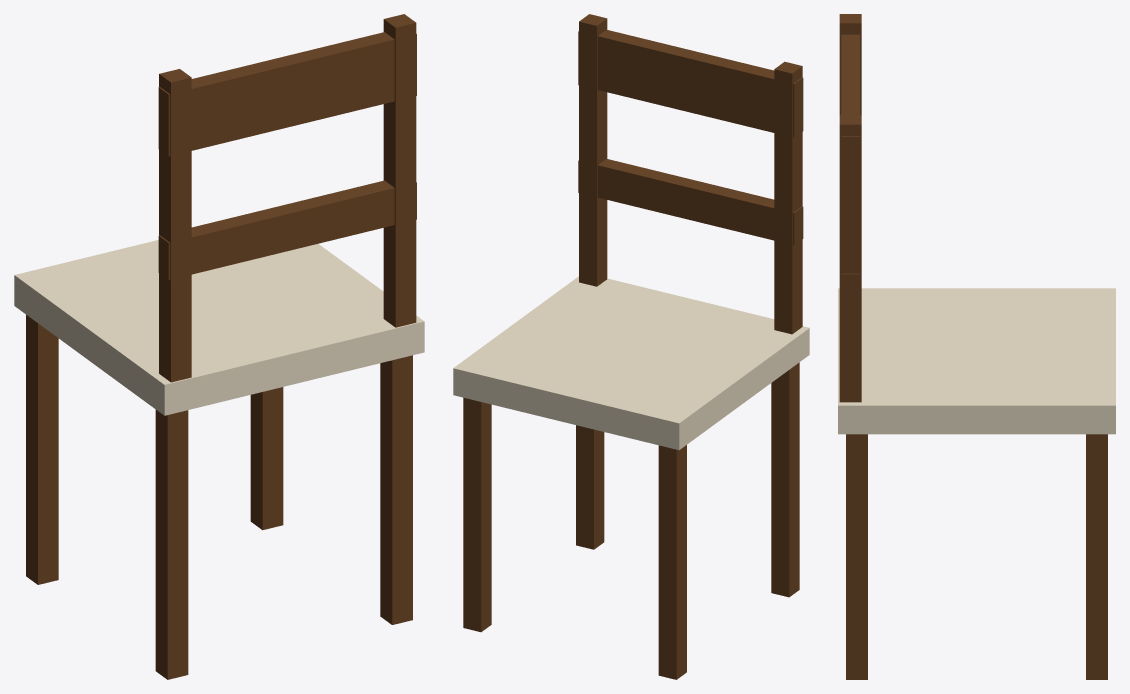
Rendered from chair.obj.
The picture shows the model from 3 angles, left to right: view 1: azimuth 30°, elevation 25°; view 2: azimuth 150°, elevation 25°; view 3: azimuth 270°, elevation 25°; orthographic projection. The views are drawn at different scales.
Visible parts, largest first — view 1: chair_0, chair_7, chair_8, chair_6, chair_5, chair_3, chair_4, chair_1, chair_2; view 2: chair_0, chair_7, chair_8, chair_5, chair_6, chair_1, chair_2, chair_3, chair_4; view 3: chair_0, chair_2, chair_4, chair_6, chair_7, chair_5, chair_8.
Boxes of the visible parts, x1,y1,x2,y2 form: chair_0: (14, 240, 424, 415); chair_7: (158, 32, 416, 156); chair_8: (158, 180, 416, 279); chair_6: (383, 14, 416, 327); chair_5: (159, 69, 191, 382); chair_3: (155, 410, 188, 679); chair_4: (380, 355, 412, 624); chair_1: (26, 315, 58, 584); chair_2: (250, 387, 283, 530); chair_0: (453, 276, 809, 450); chair_7: (578, 29, 803, 137); chair_8: (578, 159, 803, 245); chair_5: (774, 61, 802, 334); chair_6: (579, 14, 607, 286); chair_1: (658, 445, 686, 679); chair_2: (463, 397, 491, 632); chair_3: (771, 362, 799, 597); chair_4: (576, 425, 604, 549); chair_0: (838, 288, 1115, 434); chair_2: (1086, 434, 1107, 679); chair_4: (846, 434, 867, 679); chair_6: (839, 115, 861, 402); chair_7: (841, 34, 859, 193); chair_5: (839, 14, 861, 115); chair_8: (841, 273, 859, 308).
Size of the model in its own units: 0.44 by 0.97 by 0.44.
